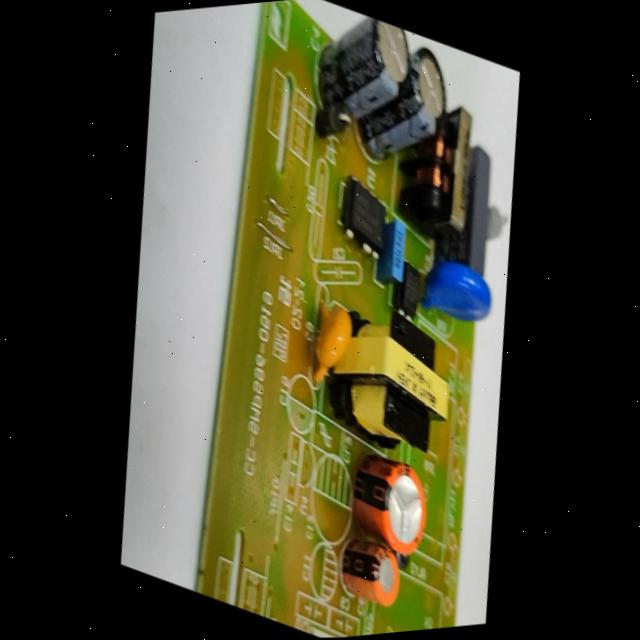Cap1: (336, 430, 441, 573)
Cap2: (328, 519, 412, 625)
Cap3: (396, 30, 456, 150)
Cap4: (304, 0, 424, 154)
MOSFET: (333, 165, 395, 271)
Mov: (414, 244, 500, 343)
Resistor: (482, 198, 514, 251)
Transformer: (328, 283, 459, 464), (420, 99, 486, 252)
